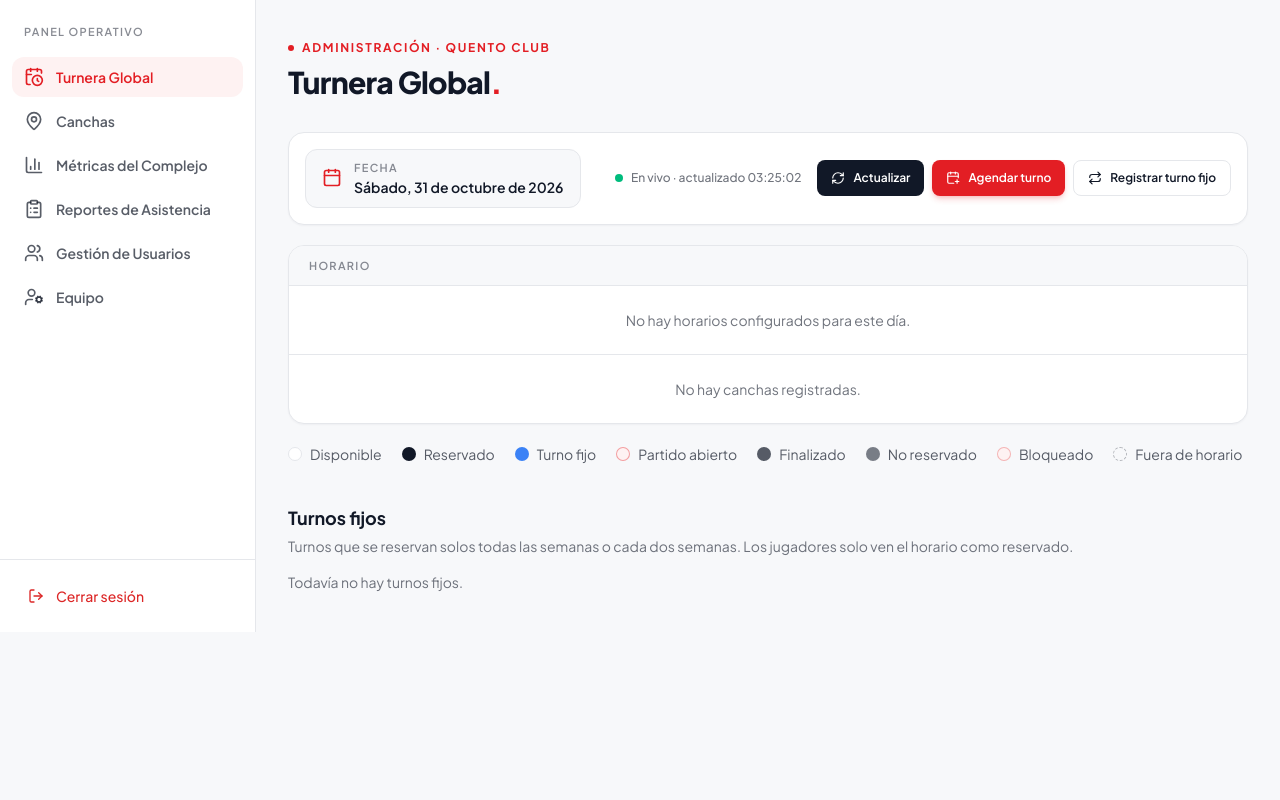
AdminPanel › al agendar un turno cierra el alta, actualiza la grilla y avisa
The image size is (1280, 800).
Click the button "Agendar turno" at (999, 178), box [932,160,1065,196]
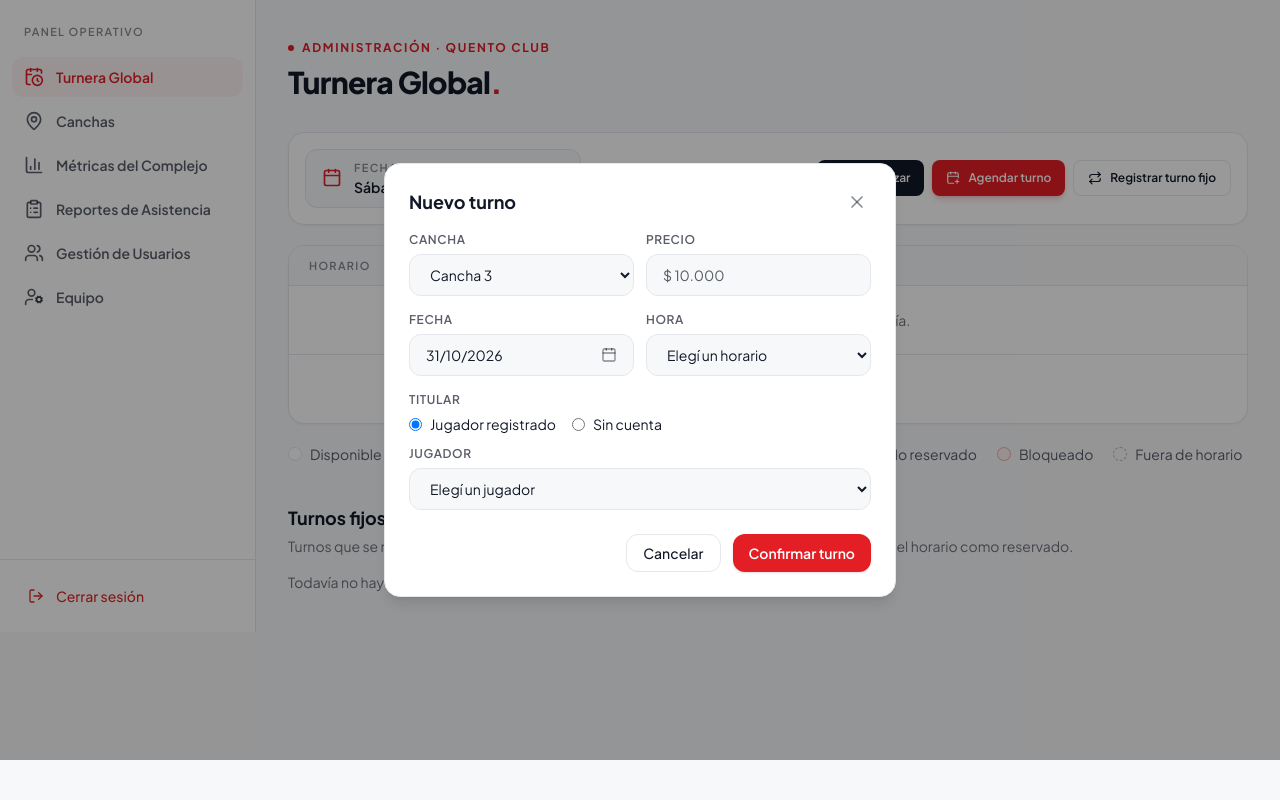
Select "18:00" in the dropdown labelled "Hora" at (758, 355), box [646,334,871,376]
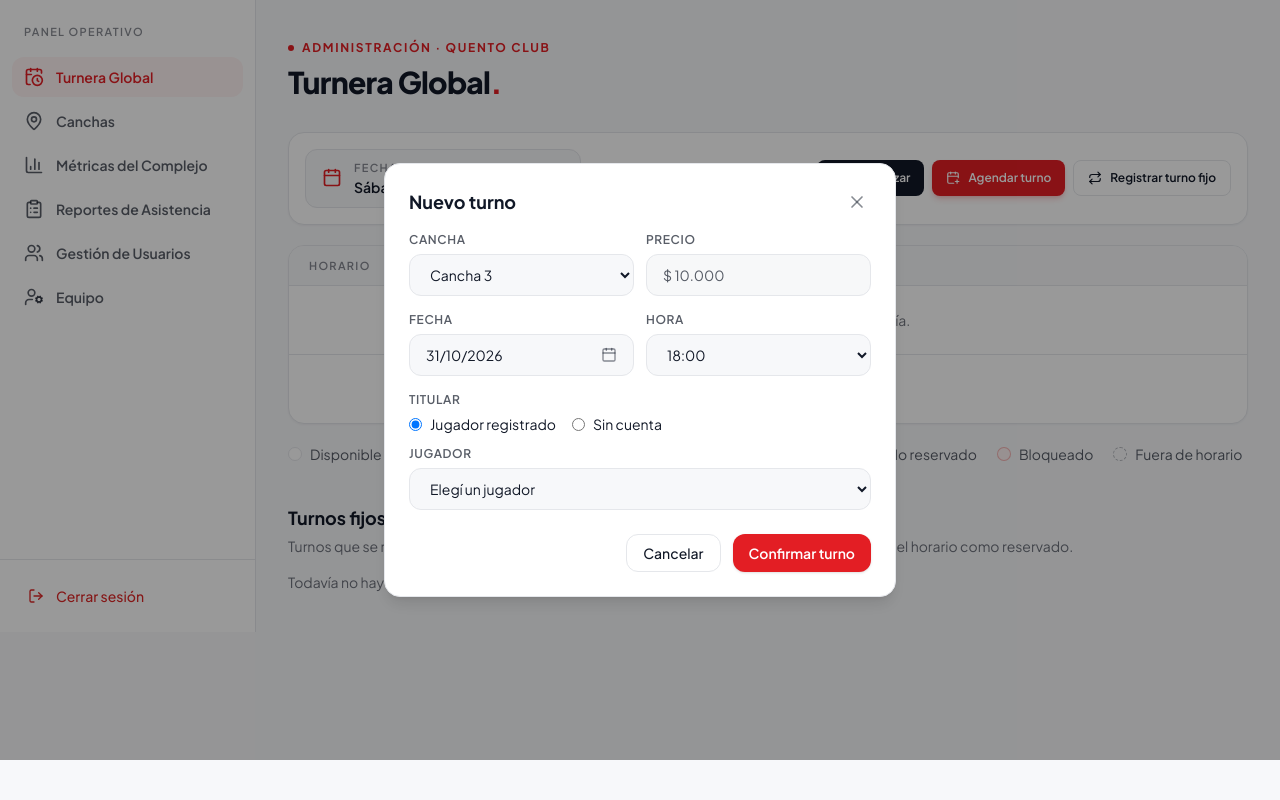
Select "Ana Gómez (2215550101)" in the dropdown labelled "Jugador" at (640, 489), box [409,468,871,510]
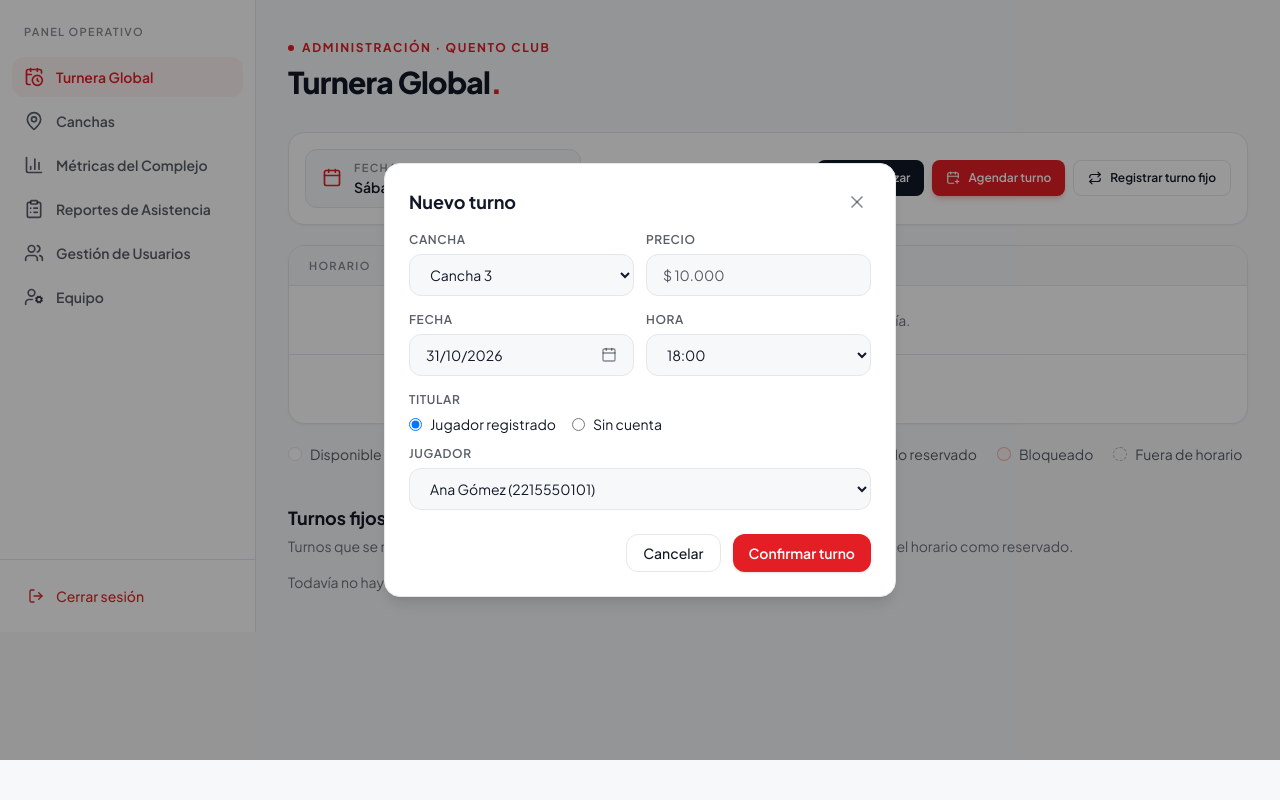
Click the button "Confirmar turno" at (802, 553), box [732,534,871,572]
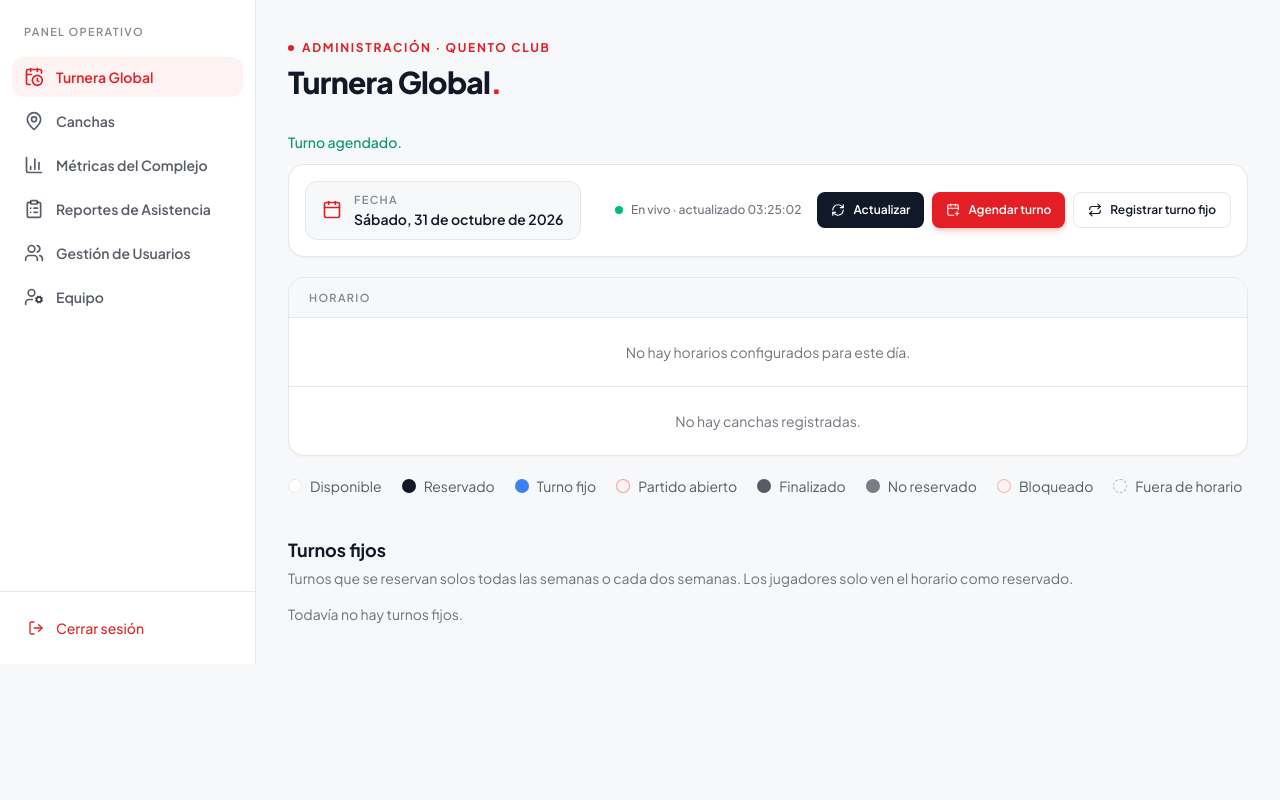
Expected: the heading "Nuevo turno" is gone
Expected: the text "Turno agendado." is shown, [288,133,402,151]
